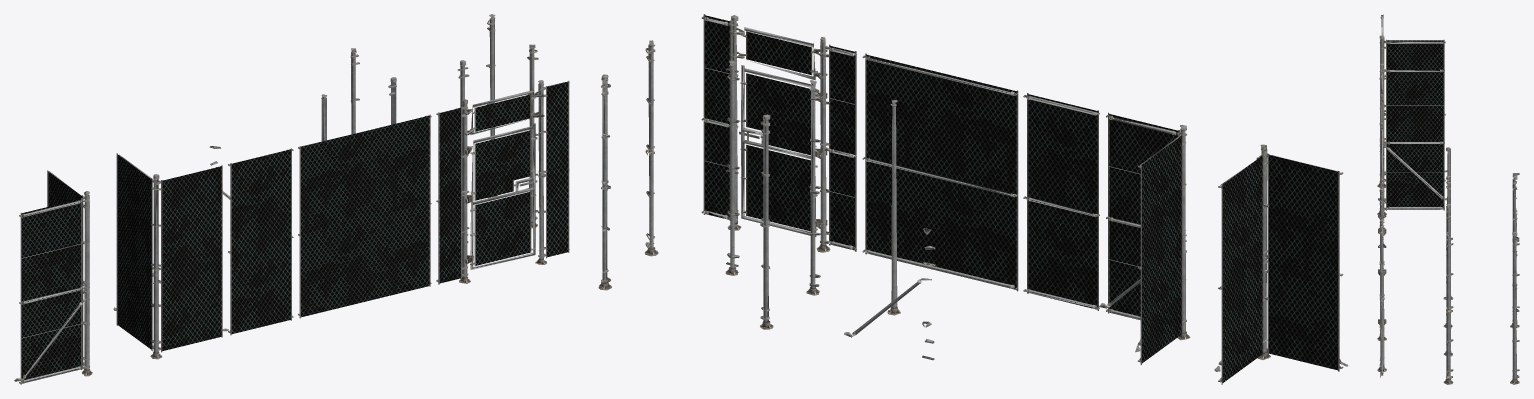
Rendered from alambrado.glb.
3 views of the same model, side by side, from view 1: azimuth 30°, elevation 25°; view 2: azimuth 150°, elevation 25°; view 3: azimuth 270°, elevation 25° (orthographic). The views are drawn at different scales.
Parts seen in each view (by area): view 1: modular_chainlink_fence_door_gate, modular_chainlink_fence_door_latch; view 2: modular_chainlink_fence_door_gate, modular_chainlink_fence_door_latch; view 3: modular_chainlink_fence_door_gate, modular_chainlink_fence_door_latch.
Part boxes in pixels (x1,y1,x2,y2): modular_chainlink_fence_door_gate: [21, 82, 568, 383]; modular_chainlink_fence_door_latch: [14, 14, 569, 384]; modular_chainlink_fence_door_gate: [705, 15, 1337, 382]; modular_chainlink_fence_door_latch: [598, 14, 1348, 384]; modular_chainlink_fence_door_gate: [1387, 40, 1443, 209]; modular_chainlink_fence_door_latch: [1377, 14, 1519, 384].
Bounding box in the file's own units: 8.11 × 2.5 × 2.15.
2 materials, 2 textured.
